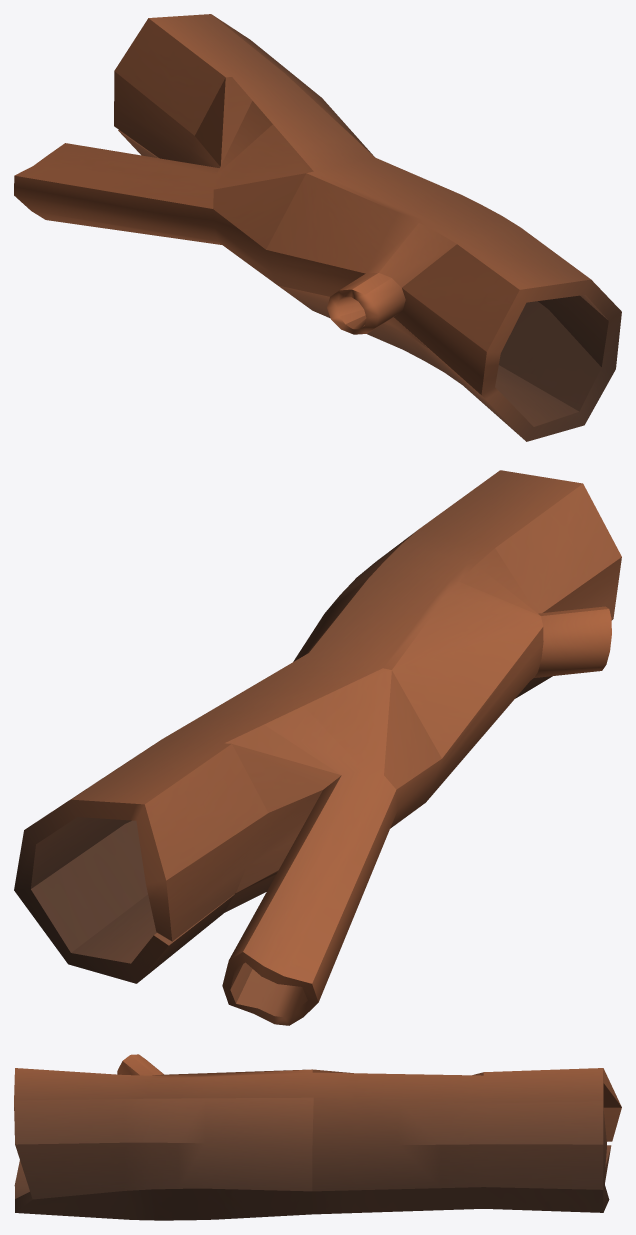
Rendered from maderaCaida3.fbx.
3 views of the same model, one above another, from view 1: azimuth 30°, elevation 25°; view 2: azimuth 150°, elevation 25°; view 3: azimuth 270°, elevation 25° (orthographic). The views are drawn at different scales.
Parts seen in each view (by area): view 1: maderaCaida3; view 2: maderaCaida3; view 3: maderaCaida3.
Boxes of the visible parts, left/top/right/bottom form: maderaCaida3: left=14, top=14, right=621, bottom=441; maderaCaida3: left=14, top=470, right=621, bottom=1025; maderaCaida3: left=14, top=1054, right=621, bottom=1220.
Bounding box in the file's own units: 546 × 345 × 1422.
